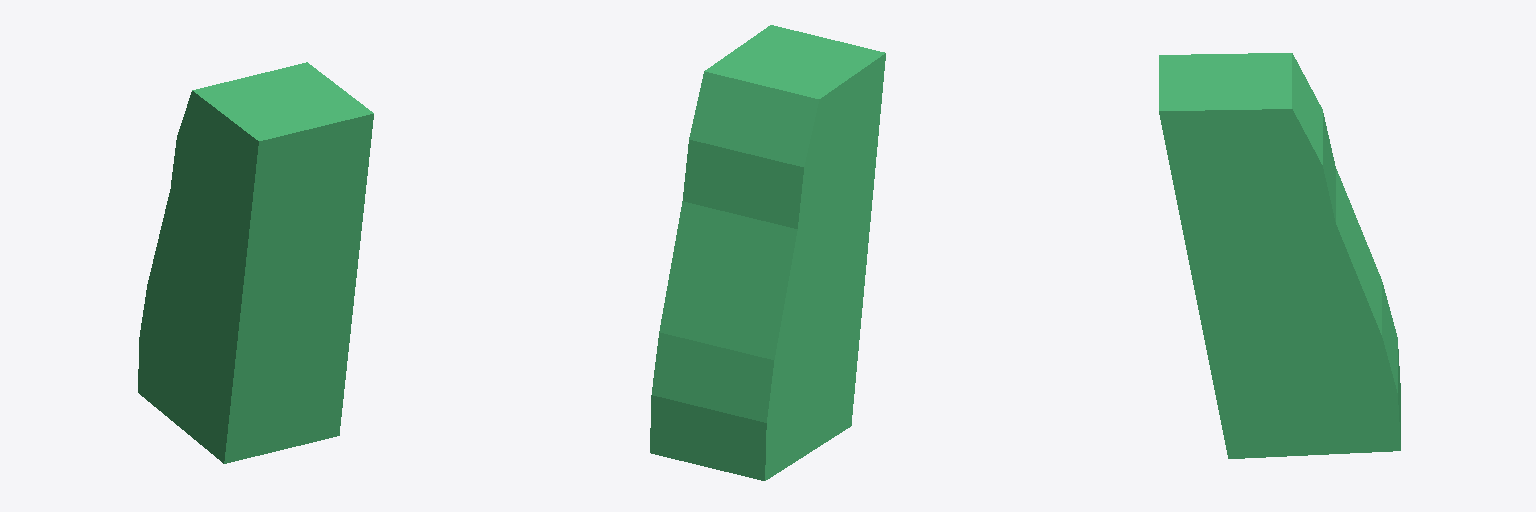
The model's file is magazine.obj.
3 views of the same model, side by side, from view 1: azimuth 30°, elevation 25°; view 2: azimuth 150°, elevation 25°; view 3: azimuth 270°, elevation 25° (orthographic).
Parts seen in each view (by area): view 1: mag_Cube; view 2: mag_Cube; view 3: mag_Cube.
Boxes of the visible parts, x1,y1,x2,y2 form: mag_Cube: [138, 62, 373, 463]; mag_Cube: [650, 25, 885, 480]; mag_Cube: [1159, 53, 1400, 458].
Bounding box in the file's own units: 0.7854 × 2.28 × 1.43.